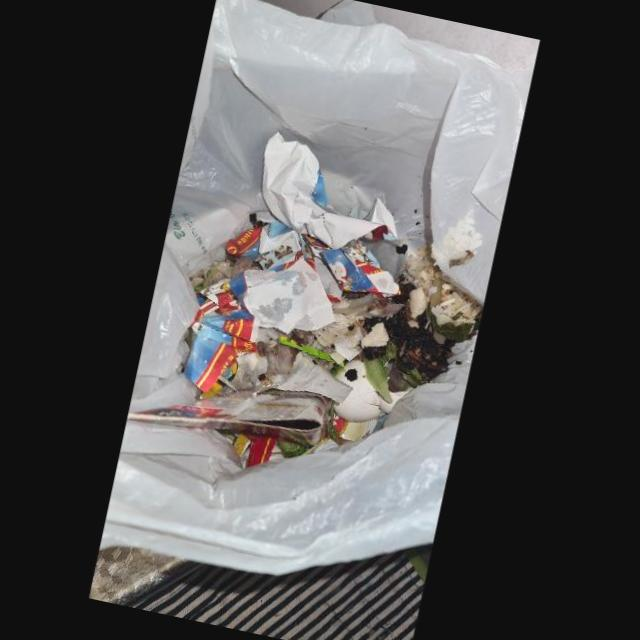giay: (183, 258, 335, 393), (261, 132, 397, 249), (299, 234, 399, 303), (223, 221, 304, 273)
vo_hop_sua: (126, 389, 324, 448)
vo_trung: (333, 359, 405, 422)
